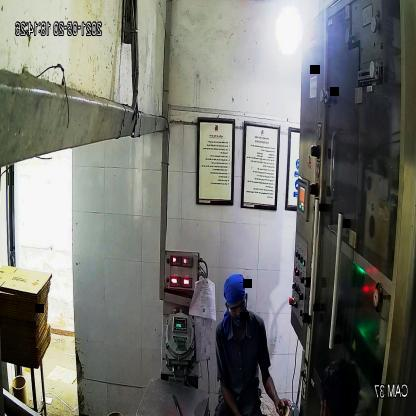goggles: (224, 298, 249, 318)
